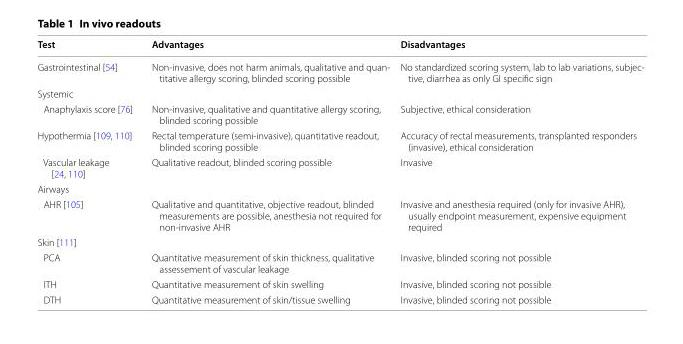table: (36, 37, 643, 304)
table column: (141, 37, 394, 304), (394, 37, 643, 304), (36, 37, 141, 304)
table column header: (36, 37, 643, 55)
table projected row header: (36, 180, 643, 196), (36, 85, 643, 100), (36, 234, 643, 249)
table row: (36, 196, 643, 234), (36, 55, 643, 85), (36, 100, 643, 127), (36, 127, 643, 154), (36, 249, 643, 276), (36, 154, 643, 180), (36, 37, 643, 55), (36, 180, 643, 196), (36, 85, 643, 100), (36, 234, 643, 249), (36, 276, 643, 291), (36, 291, 643, 304)
